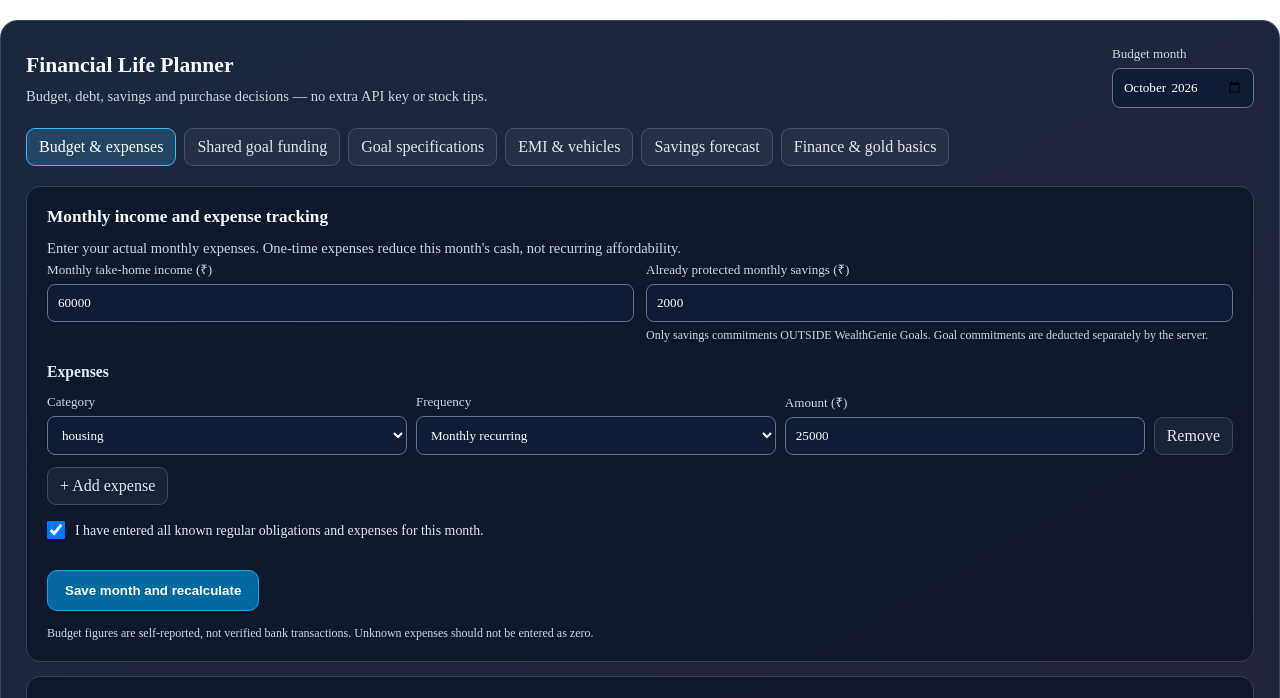
Test: Goal financial workspace — keyless budget and purchase flows › rejects one-character goal names before sending the request
Expected: the heading "Monthly income and expense tracking" is shown, [47, 207, 328, 226]
Click the button "Goal specifications": (423, 147) [348, 128, 497, 166]
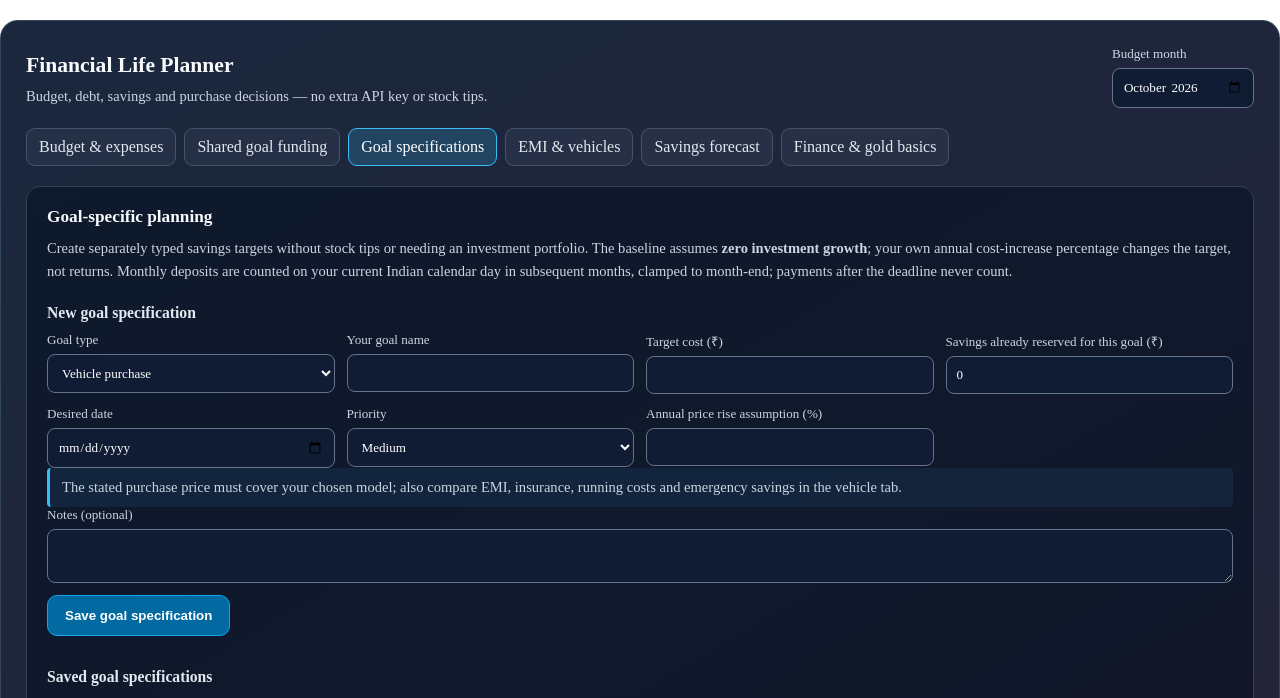
Result: the heading "New goal specification" is shown at [47, 304, 196, 321]
In the field labelled "Your goal name": (490, 373) [346, 354, 634, 392], type "A"
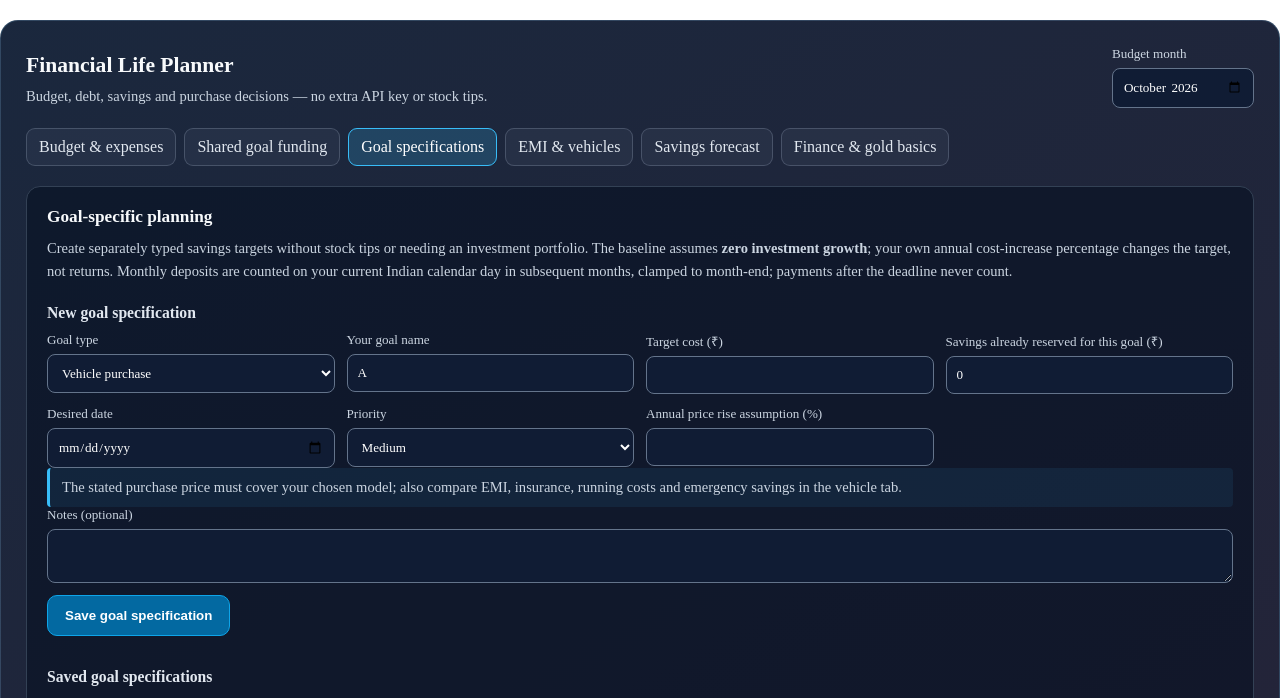
In the number field labelled "Target cost (₹)": (790, 375) [646, 356, 934, 394], type "1000"
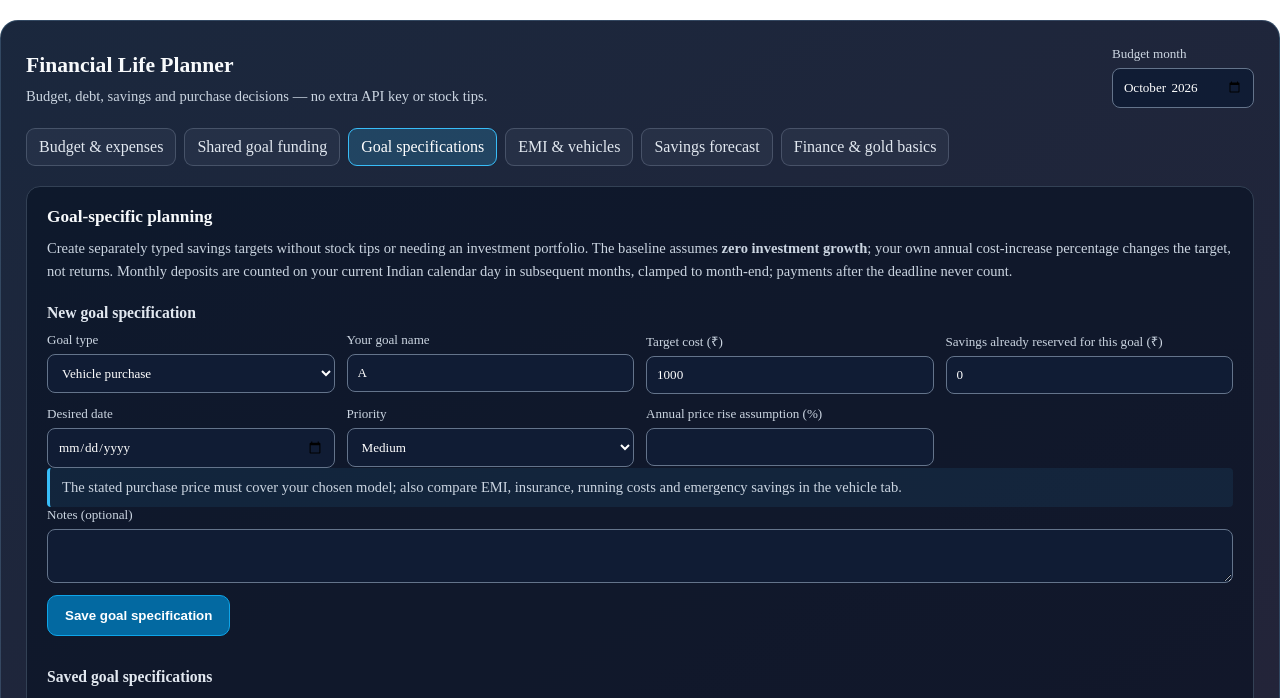
In the date field labelled "Desired date": (191, 448) [47, 428, 334, 468], type "2028-10-23"
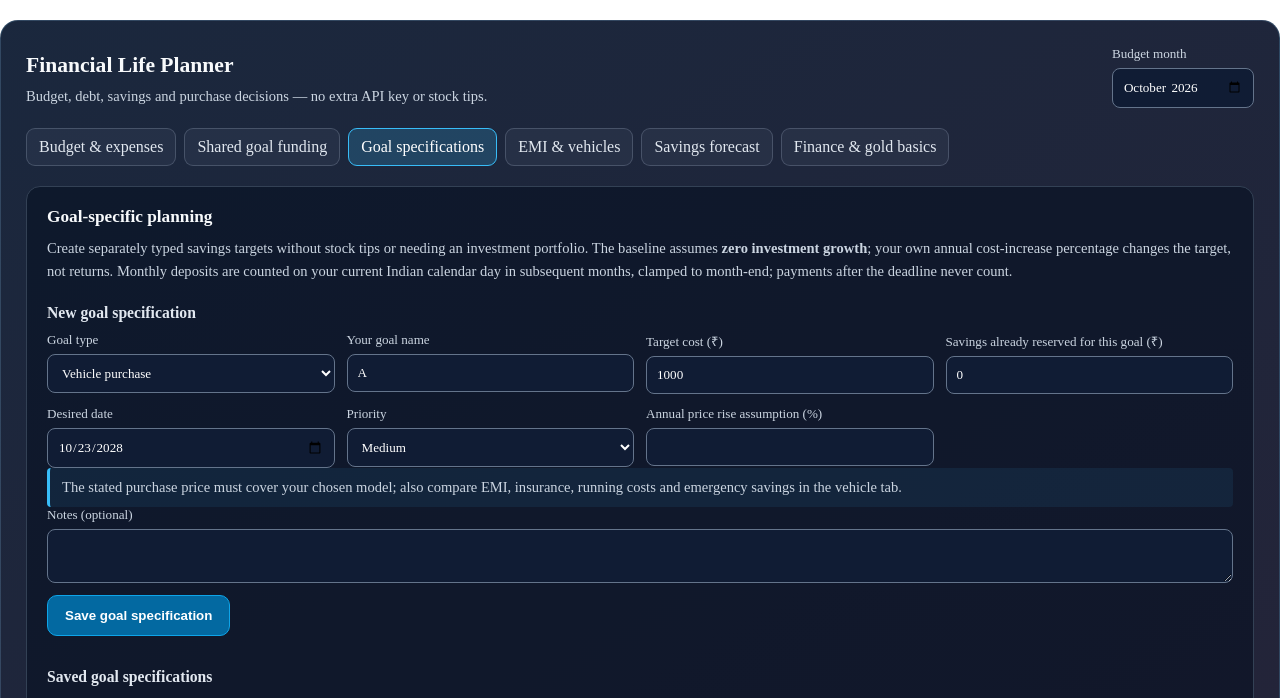
In the number field labelled "Annual price rise assumption (%)": (790, 447) [646, 428, 934, 466], type "0"
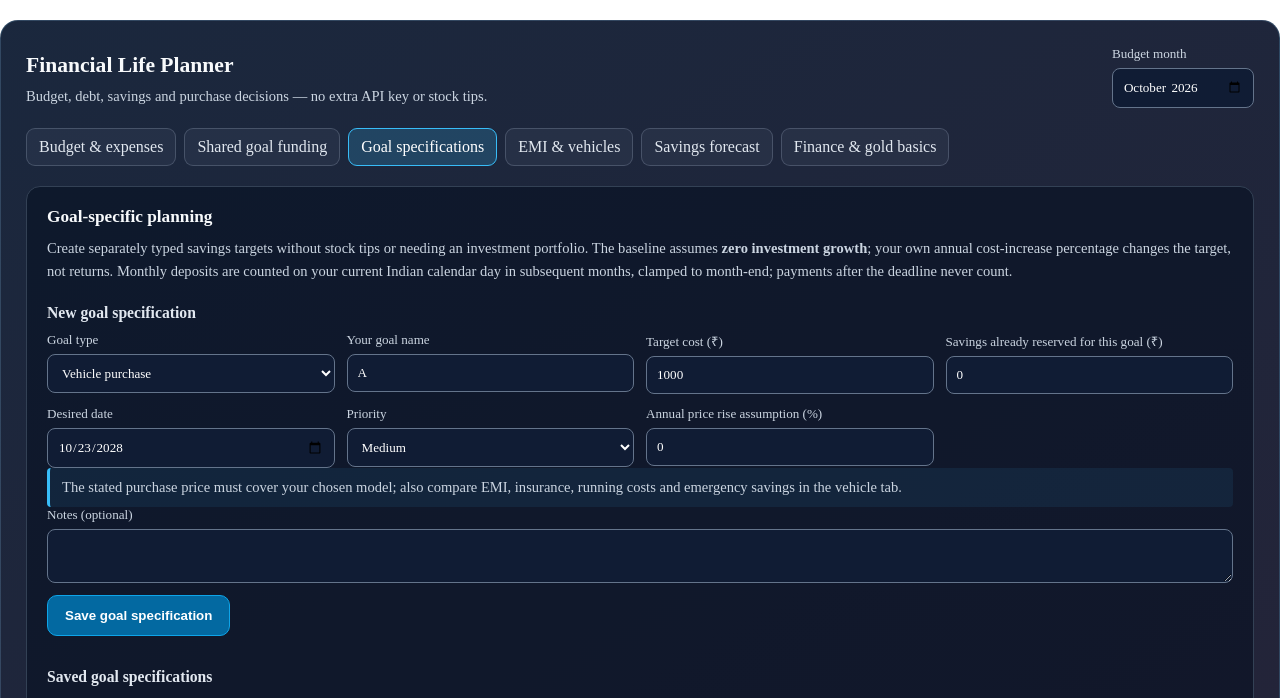
Click the button "Save goal specification": (139, 615) [47, 595, 230, 636]
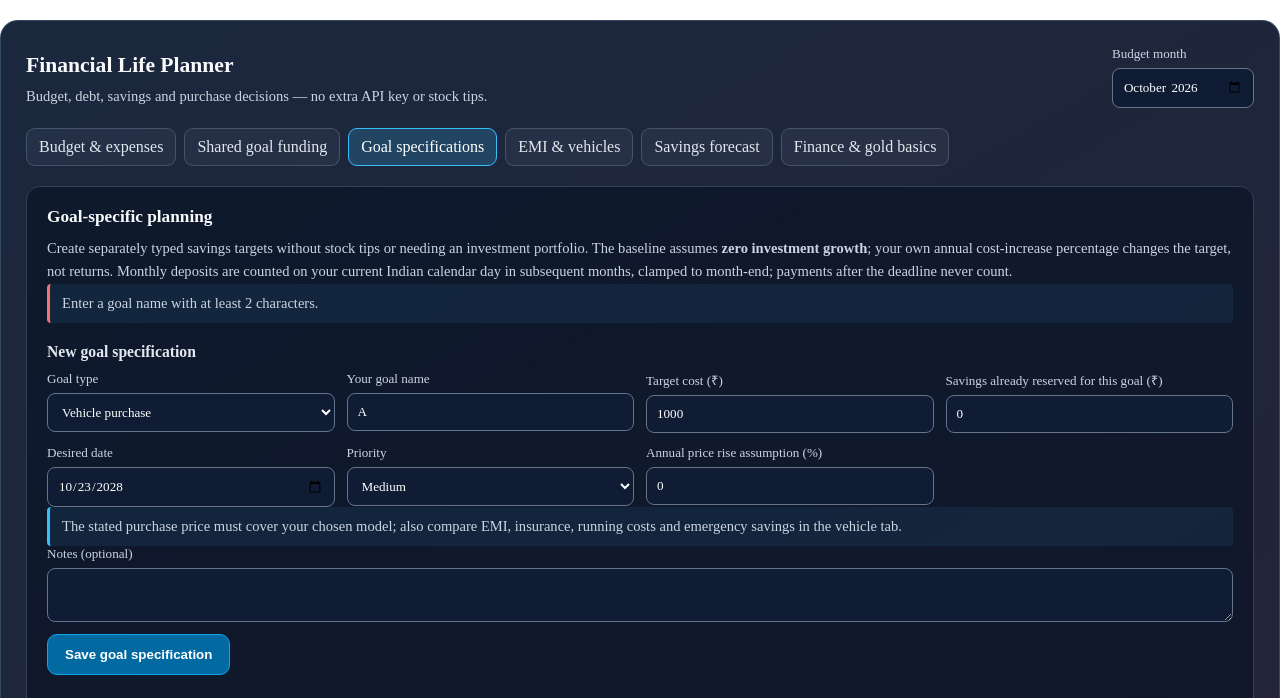
Result: the message shows "at least 2 characters" at [62, 295, 318, 311]
